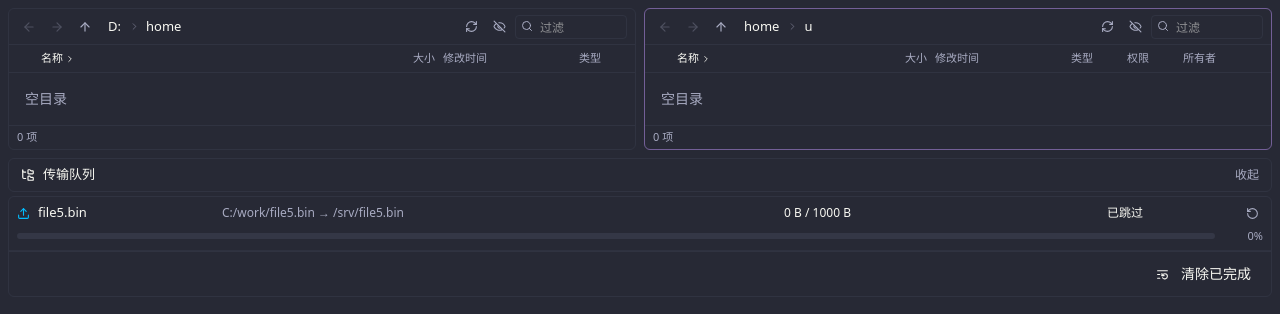
Test: 队列项的右键菜单 › 已跳过的右键「重试」：调 sftp_transfer_retry，菜单关掉
Right-click the element that starts with "file5.bin" at (640, 224), box [9, 196, 1271, 251]
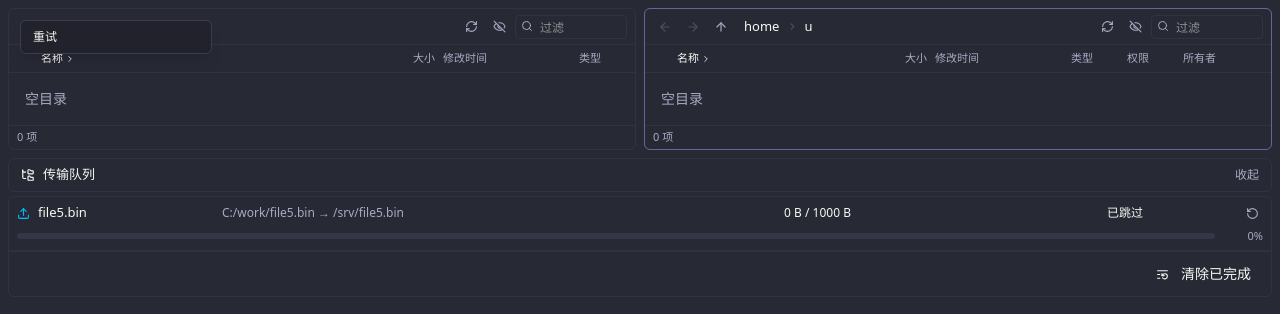
Click the menu item "重试" at (116, 37), box [25, 25, 207, 49]
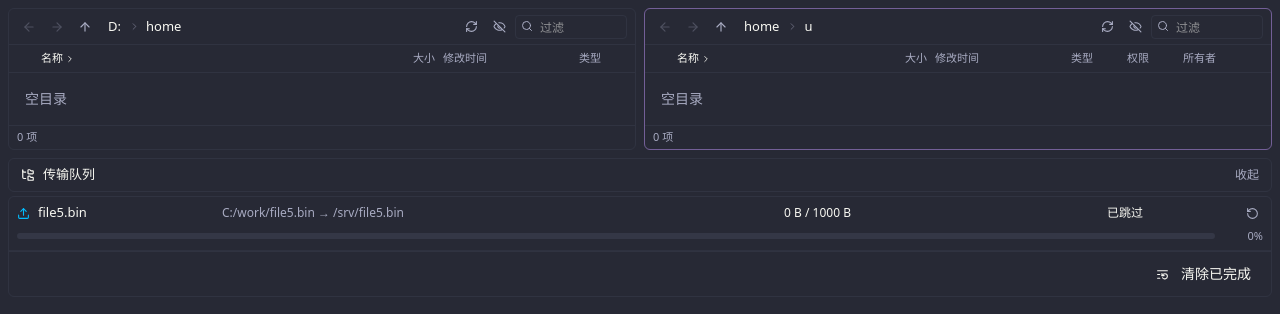
Expected: the menu with test id "sftp-context-menu" is gone
